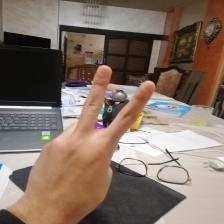two: (31, 66, 156, 207)
